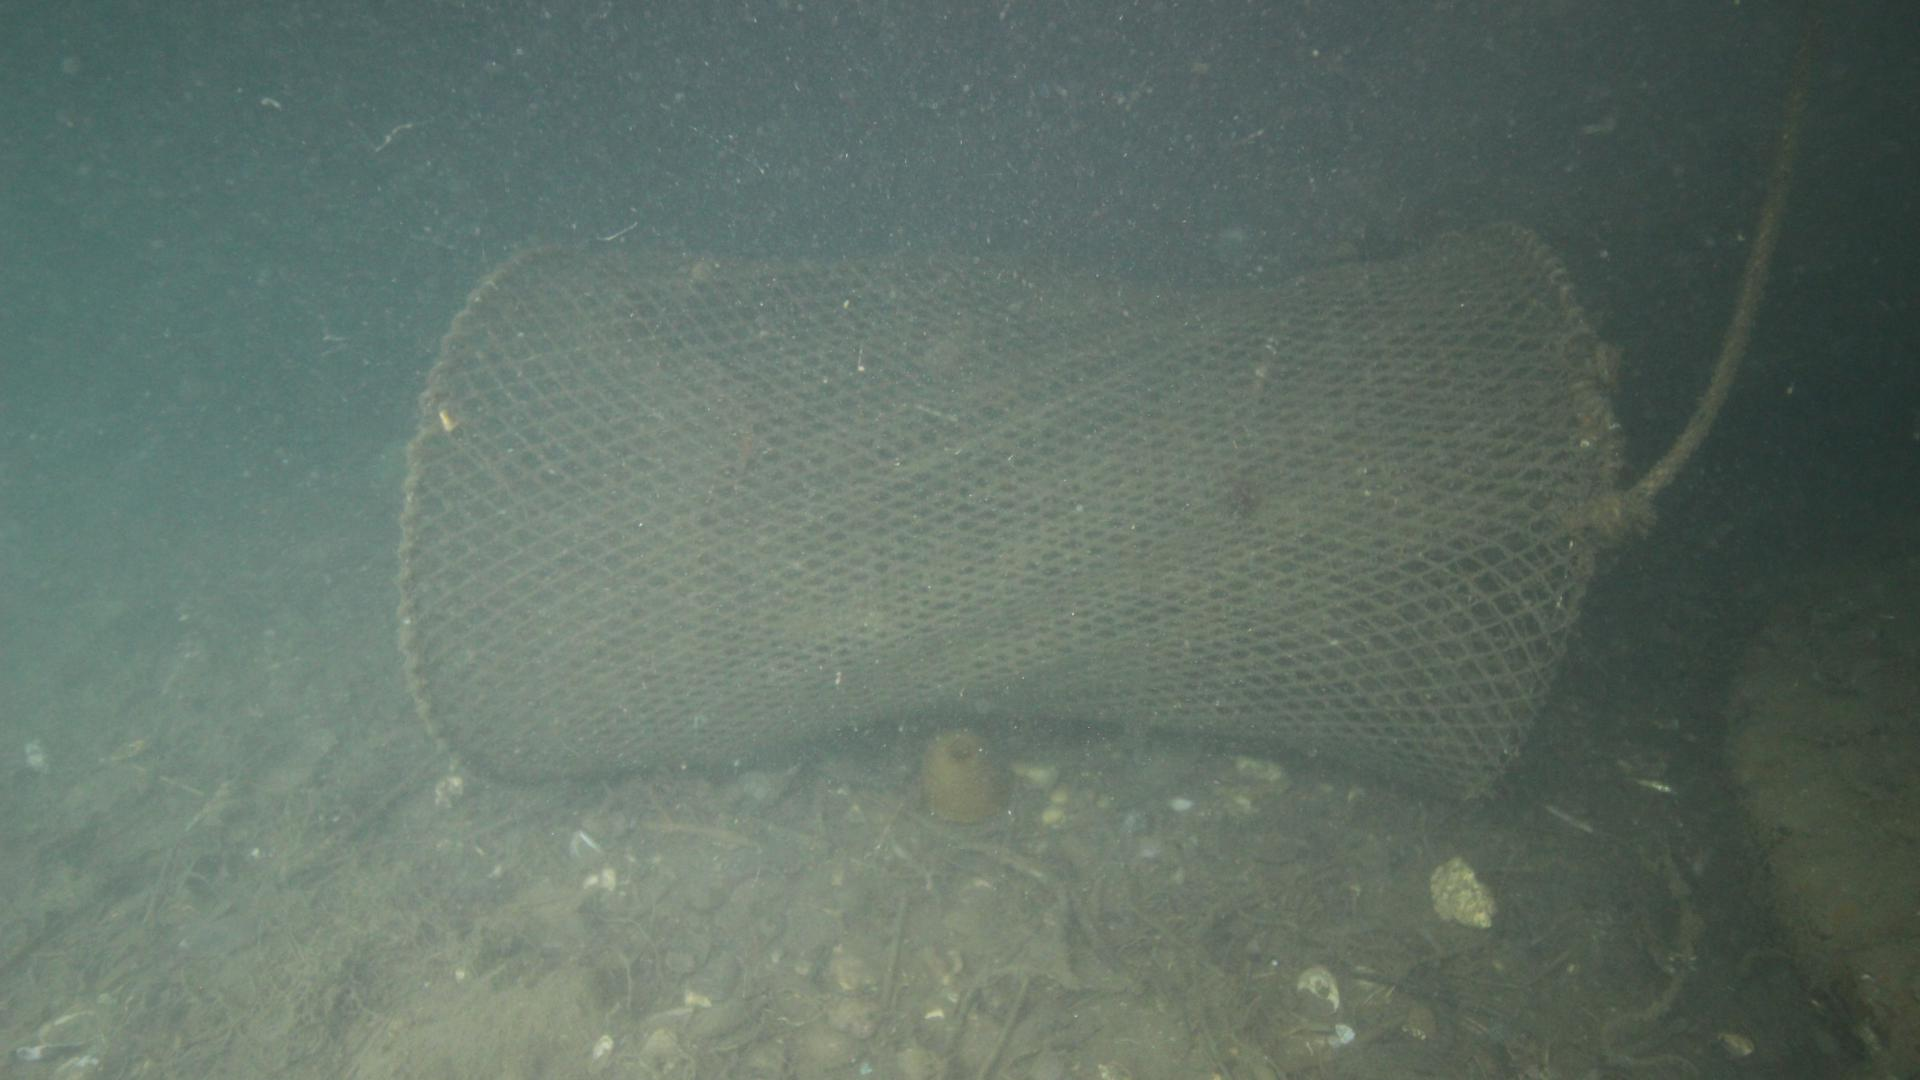rope: (1617, 175, 1772, 506)
spring fish trap: (396, 225, 1621, 810)
